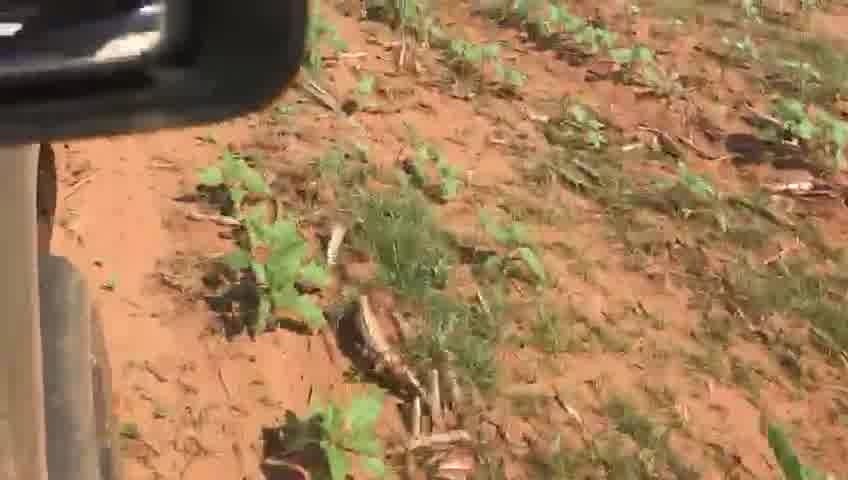sunflower: (221, 213, 333, 335), (265, 389, 389, 474), (471, 201, 544, 285), (439, 34, 520, 108), (756, 95, 830, 169), (185, 148, 276, 208), (644, 164, 735, 220), (406, 138, 467, 208), (562, 18, 620, 73), (605, 38, 660, 94), (303, 16, 345, 72), (391, 4, 439, 52), (335, 69, 379, 120)
